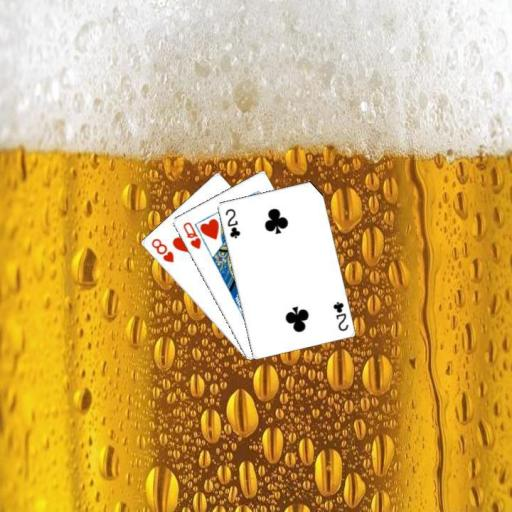2C: (222, 205, 242, 240), (330, 298, 349, 332)
8H: (148, 235, 175, 265)
QH: (179, 219, 202, 251)
